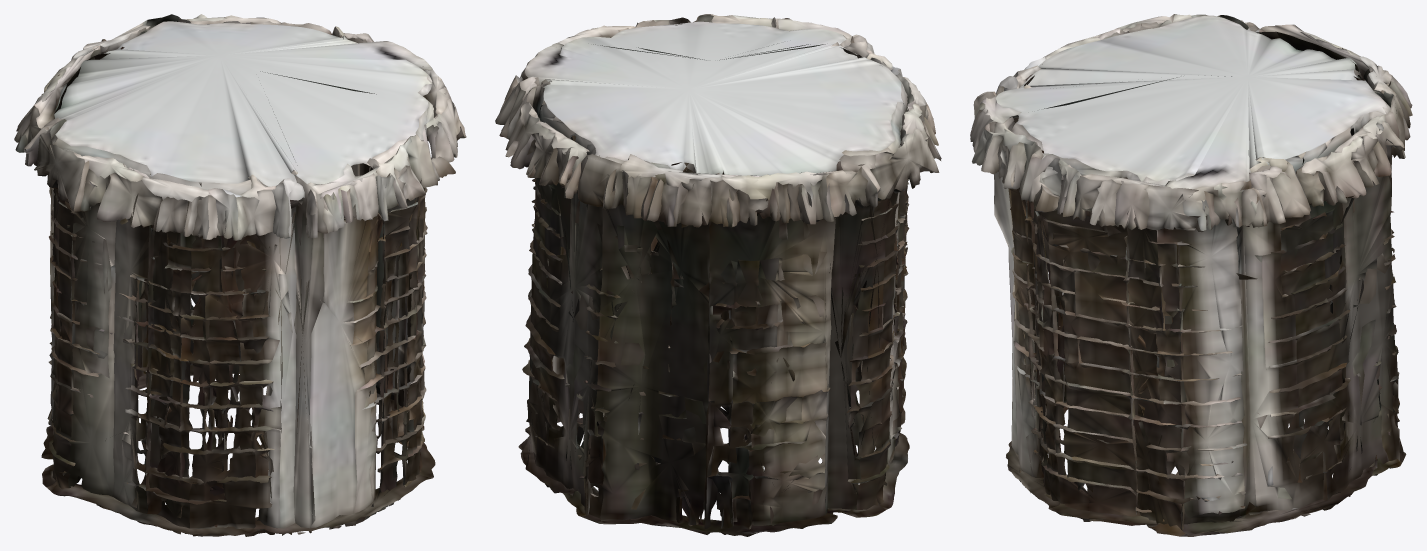
The picture shows the model from 3 angles, left to right: view 1: azimuth 30°, elevation 25°; view 2: azimuth 150°, elevation 25°; view 3: azimuth 270°, elevation 25°; orthographic projection.
Parts seen in each view (by area): view 1: world; view 2: world; view 3: world.
Part boxes in pixels (<box>): world: <box>14,14,466,536</box>; world: <box>495,14,941,536</box>; world: <box>970,14,1412,536</box>.
Size of the model in its own units: 0.1703 by 0.1674 by 0.1708.
1 material, 1 textured.
